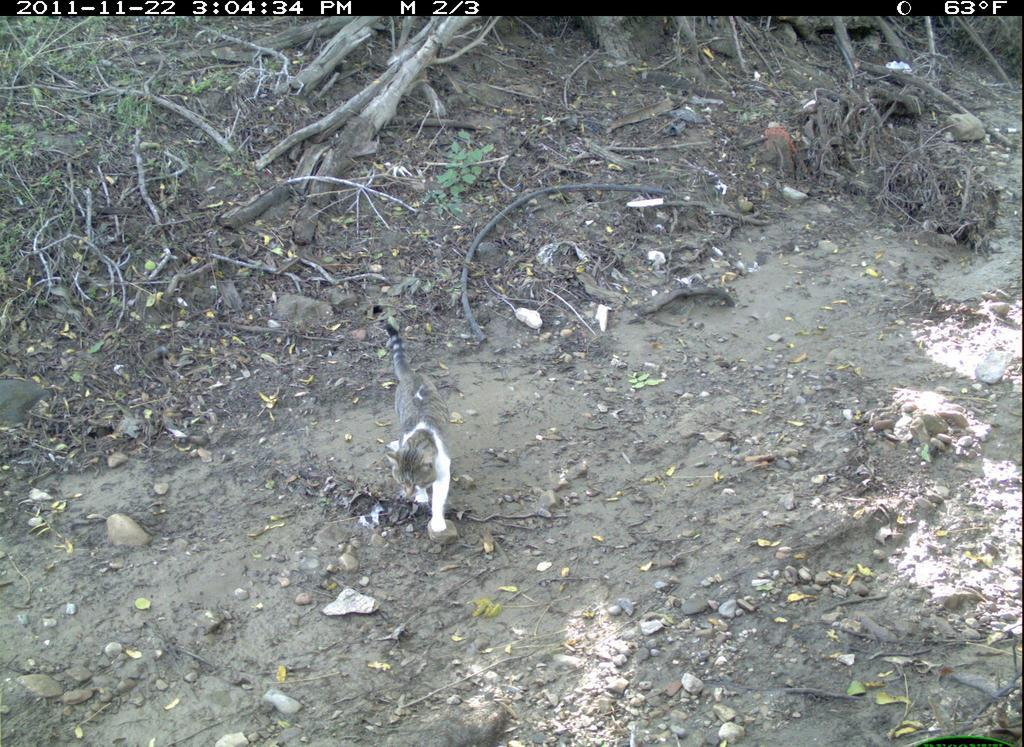cat: (370, 301, 468, 542)
